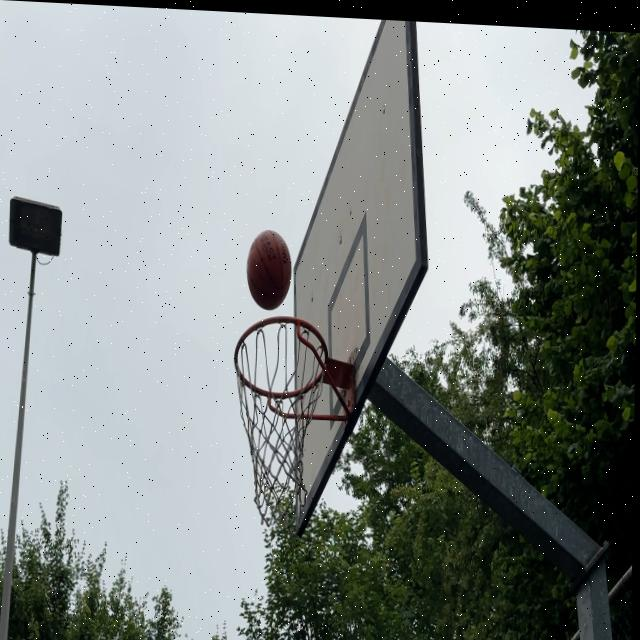Basketball: (248, 229, 294, 313)
